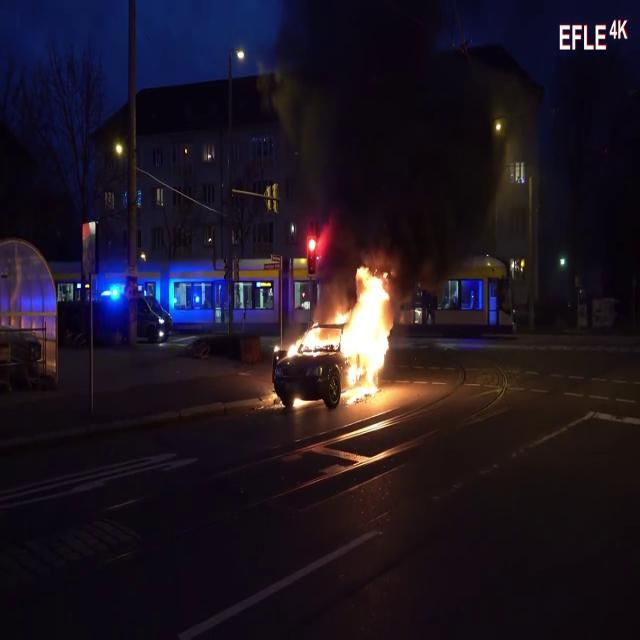Fire: (328, 265, 396, 399), (288, 319, 328, 359)
Smoke: (270, 1, 478, 268)
